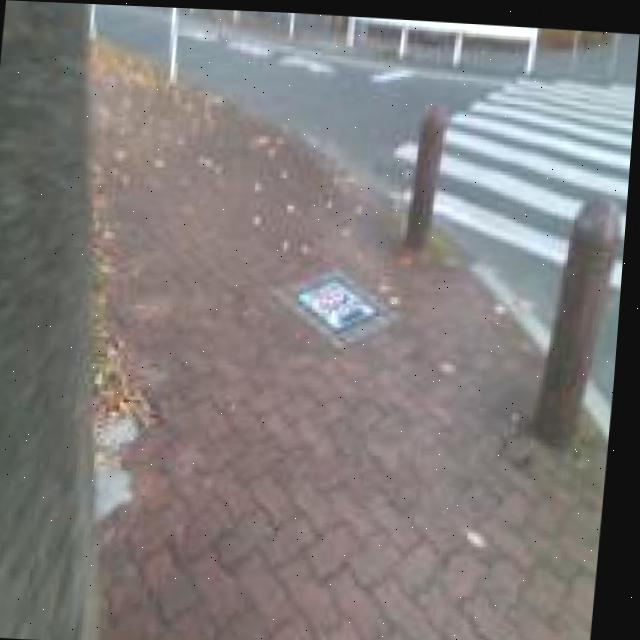Obstacle: (538, 193, 622, 442), (297, 268, 398, 342), (408, 101, 447, 245)
Road: (439, 70, 637, 431), (177, 16, 513, 177), (95, 3, 170, 71)
Sidewalk: (97, 45, 613, 640)
